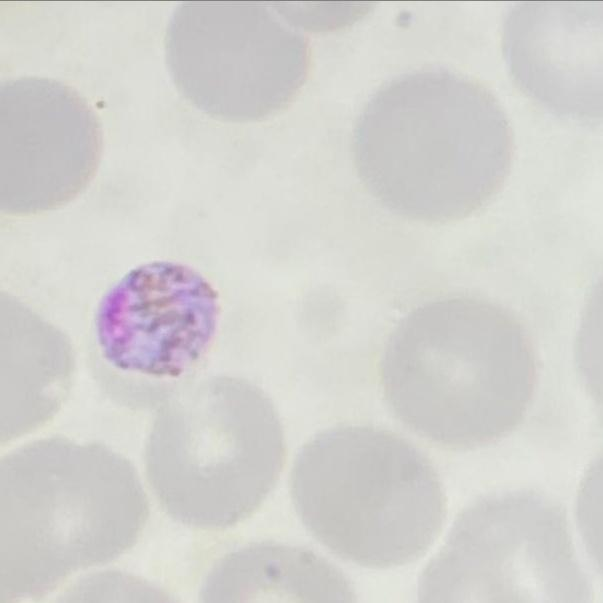Infected: (87, 261, 216, 399)
Uninfected: (0, 436, 142, 603), (382, 296, 539, 445), (358, 72, 516, 220), (293, 427, 442, 567), (148, 372, 281, 525), (422, 494, 592, 603), (165, 0, 309, 115), (0, 76, 98, 216)
